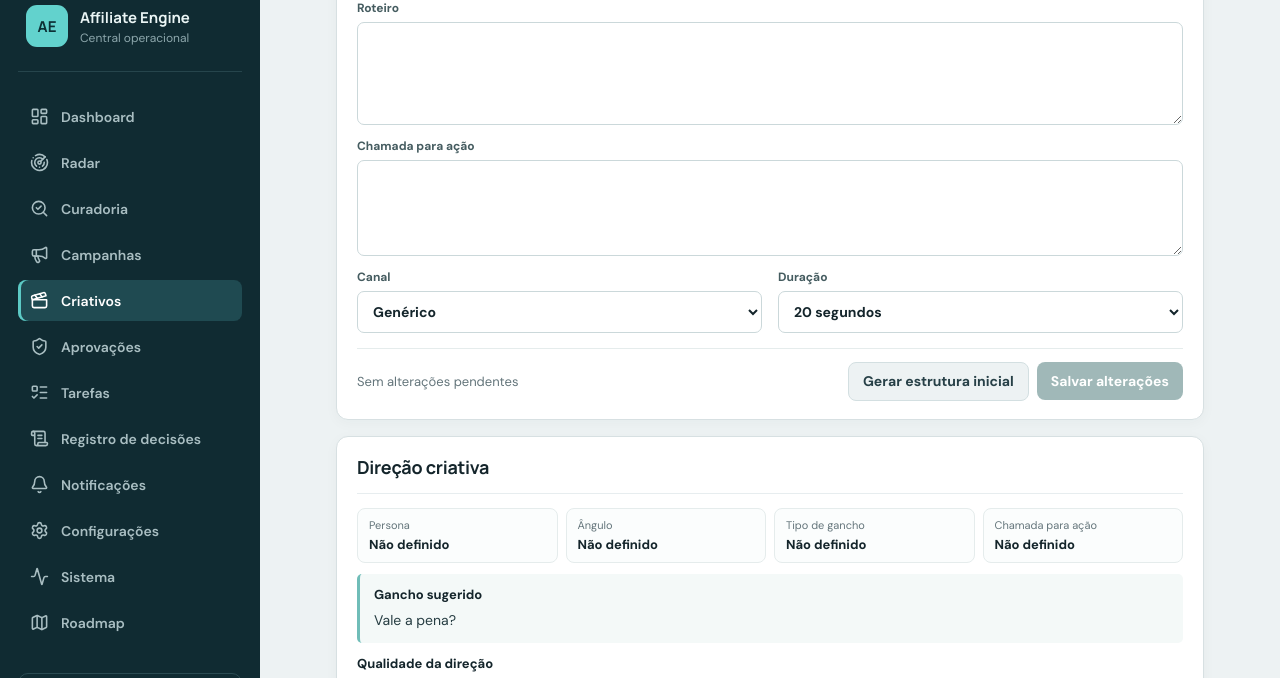
Test: Creative Studio › atualiza campos principais ao gerar estrutura inicial
(page scrolled)
Click the button "Gerar estrutura inicial" at [938, 381], box [848,362,1029,401]
(page scrolled)
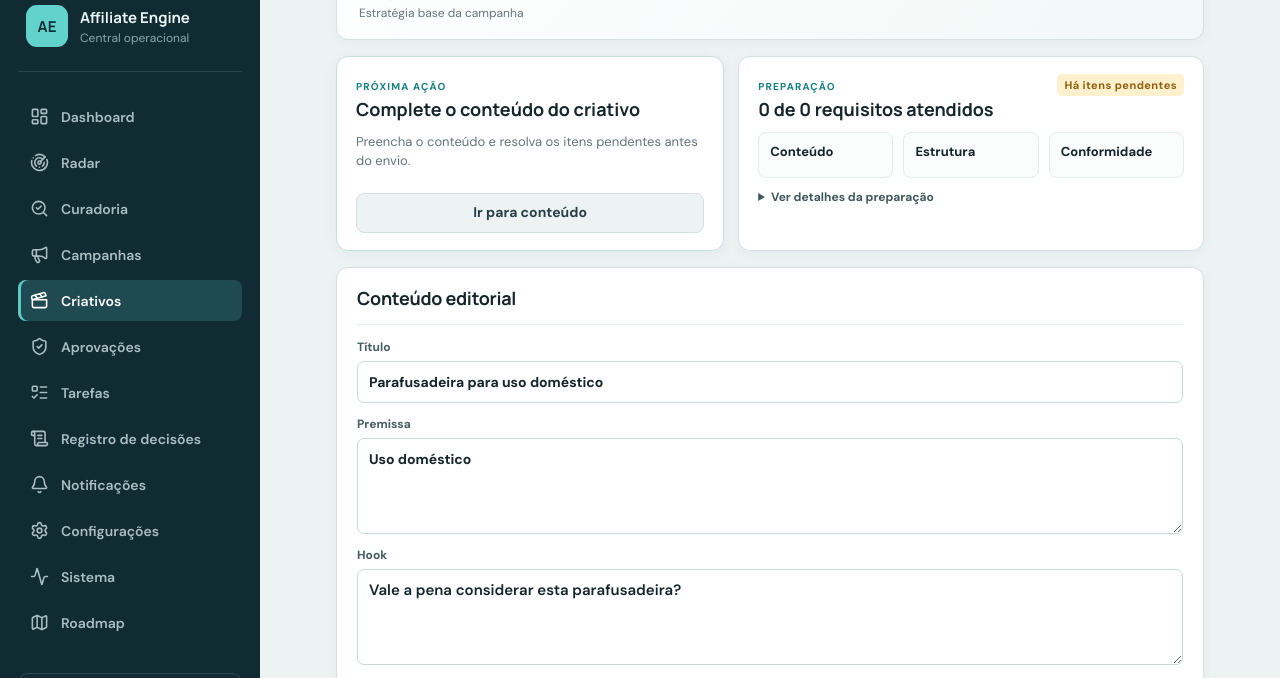
Now the text box showing "Vale a pena considerar esta parafusadeira?" is shown, box [357,569,1183,665]
Now the field showing "Parafusadeira para uso doméstico" is shown, box [357,360,1183,403]
